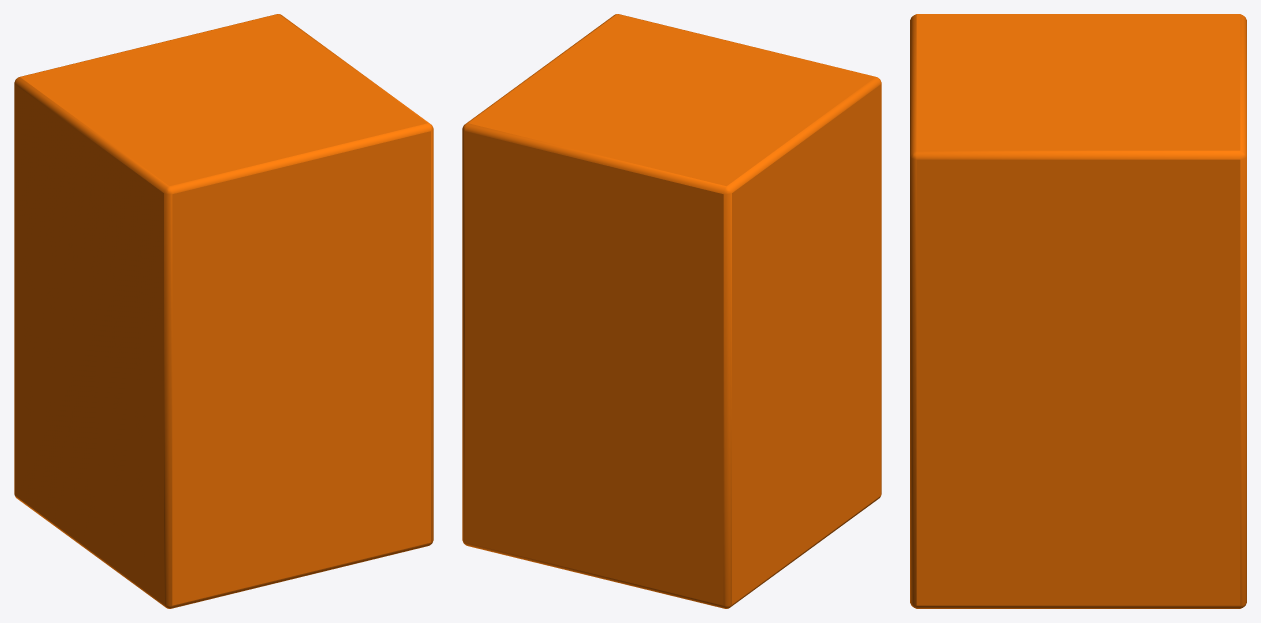
File: CuboidYellow.fbx
The picture shows the model from 3 angles, left to right: view 1: azimuth 30°, elevation 25°; view 2: azimuth 150°, elevation 25°; view 3: azimuth 270°, elevation 25°; orthographic projection. The views are drawn at different scales.
Parts seen in each view (by area): view 1: Cube; view 2: Cube; view 3: Cube.
Part boxes in pixels (<box>): Cube: <box>14,14,433,608</box>; Cube: <box>462,14,881,608</box>; Cube: <box>910,14,1246,608</box>.
Size of the model in its own units: 2 by 3 by 2.
